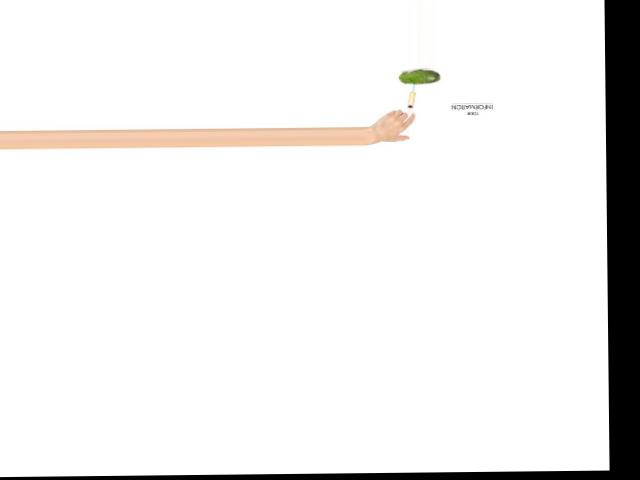cucumber: (397, 70, 440, 84)
